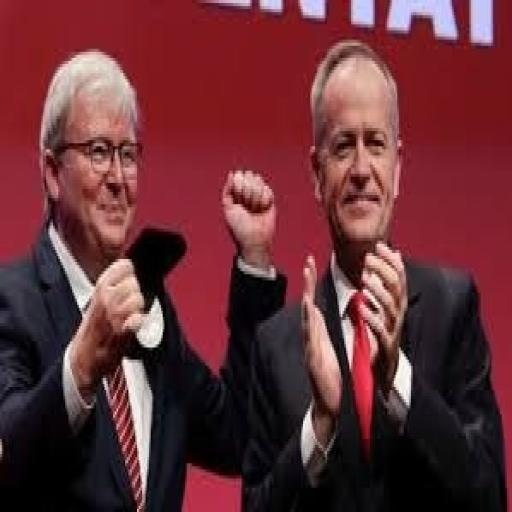clapping: (240, 37, 507, 509)
